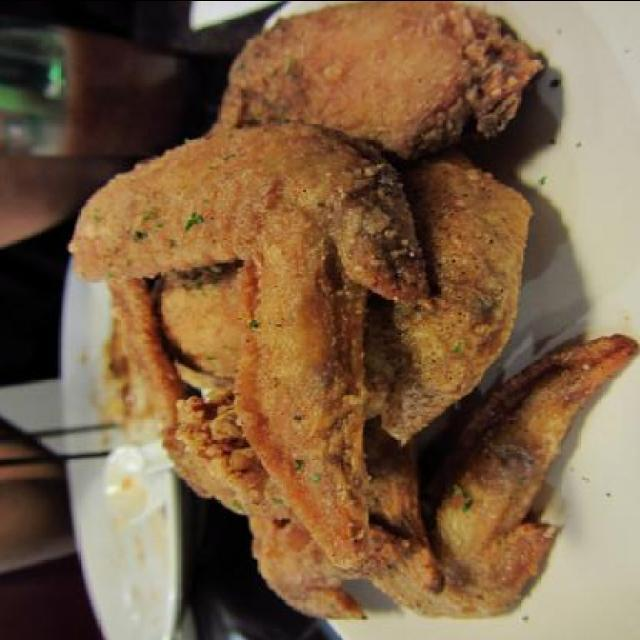Deep fried chicken wing: (71, 11, 575, 600)
